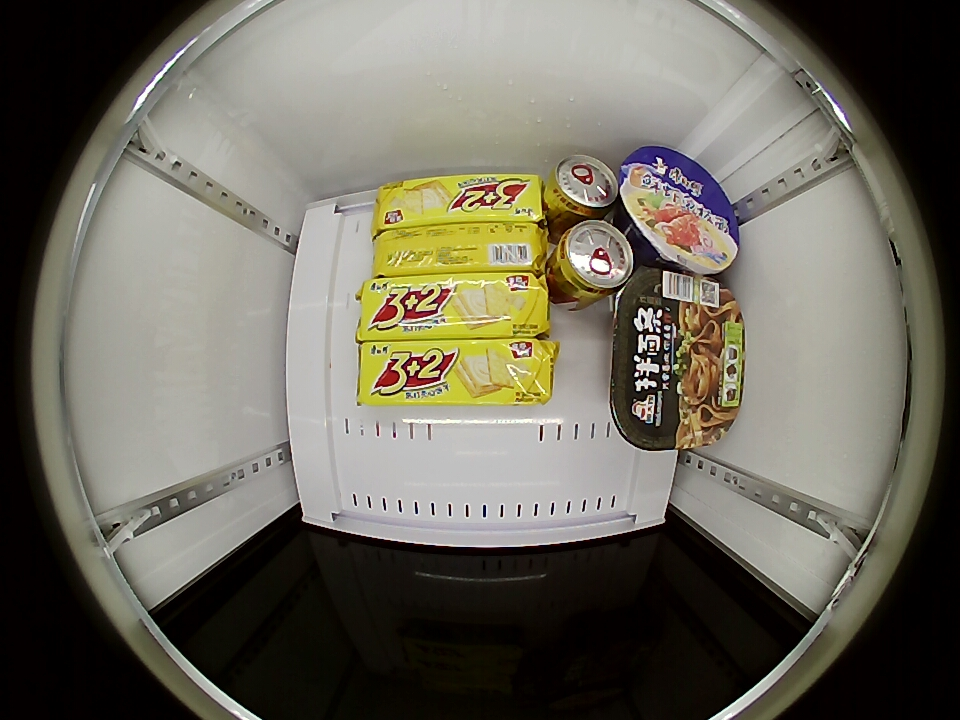3+2-2: (356, 340, 554, 406), (357, 274, 551, 339), (373, 174, 545, 228), (372, 223, 548, 275)
dongpeng: (550, 219, 635, 302), (543, 154, 620, 220)
gudasao: (610, 271, 745, 452)
xianxiayuban: (618, 146, 740, 274)
